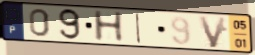0: (27, 7, 53, 39)
9: (56, 7, 82, 42), (169, 15, 193, 46)
H: (92, 9, 126, 43)
I: (135, 12, 143, 45)
V: (196, 15, 229, 50)
